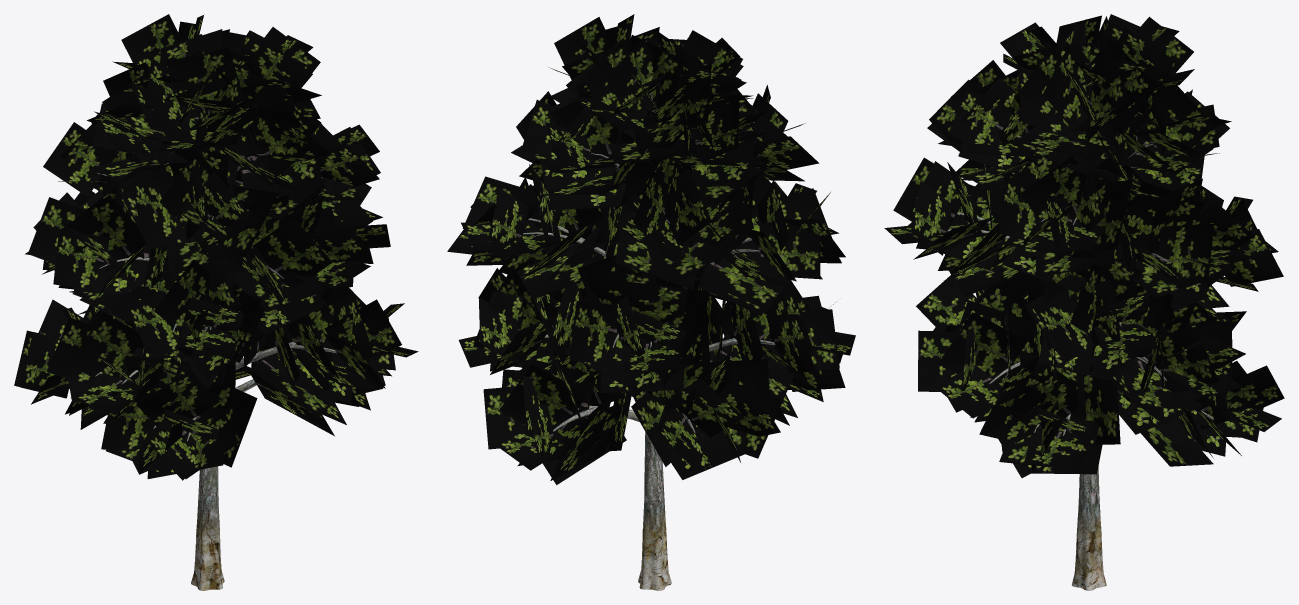
3 views of the same model, side by side, from view 1: azimuth 30°, elevation 25°; view 2: azimuth 150°, elevation 25°; view 3: azimuth 270°, elevation 25° (orthographic).
Parts seen in each view (by area): view 1: LowPolyTree, LowPolyTree.002; view 2: LowPolyTree, LowPolyTree.002; view 3: LowPolyTree, LowPolyTree.002.
Boxes of the visible parts, bbox=[...] form: LowPolyTree: bbox=[14, 14, 418, 480]; LowPolyTree.002: bbox=[95, 110, 336, 590]; LowPolyTree: bbox=[447, 14, 855, 485]; LowPolyTree.002: bbox=[523, 102, 783, 590]; LowPolyTree: bbox=[884, 14, 1284, 477]; LowPolyTree.002: bbox=[947, 106, 1213, 590].
Size of the model in its own units: 980 by 1457 by 940.
2 materials, 2 textured.
